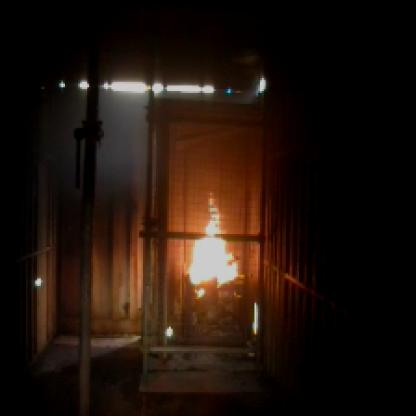Fire: (182, 208, 240, 292)
